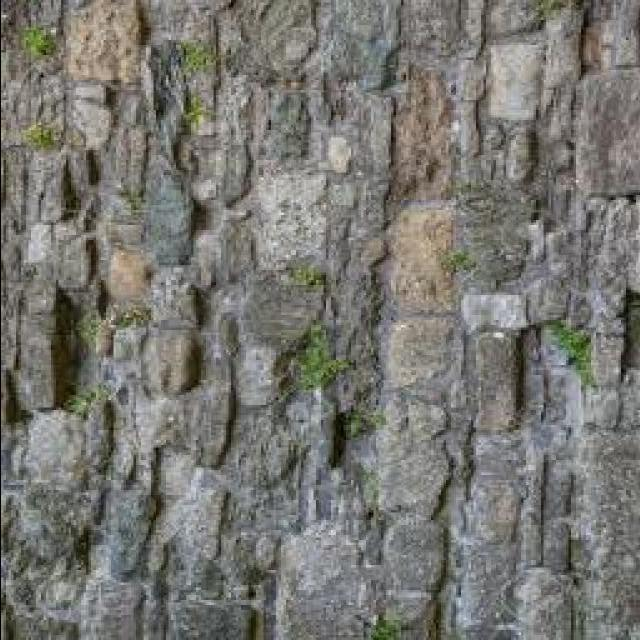crack: (1, 0, 638, 638), (1, 13, 130, 630), (93, 18, 220, 624), (83, 0, 160, 282), (217, 2, 403, 117), (316, 81, 399, 201), (571, 68, 640, 198), (18, 213, 93, 285), (13, 144, 70, 234), (485, 41, 547, 122), (539, 9, 588, 106), (186, 137, 244, 209), (451, 74, 490, 172), (65, 82, 115, 152), (126, 2, 158, 103), (594, 4, 640, 74), (16, 274, 62, 328)
vegetation: (458, 180, 544, 290), (14, 21, 74, 146), (161, 36, 219, 139), (475, 115, 544, 196), (190, 227, 229, 287), (177, 39, 214, 76), (21, 25, 57, 60), (439, 247, 476, 275), (284, 264, 326, 288), (531, 0, 570, 23)
